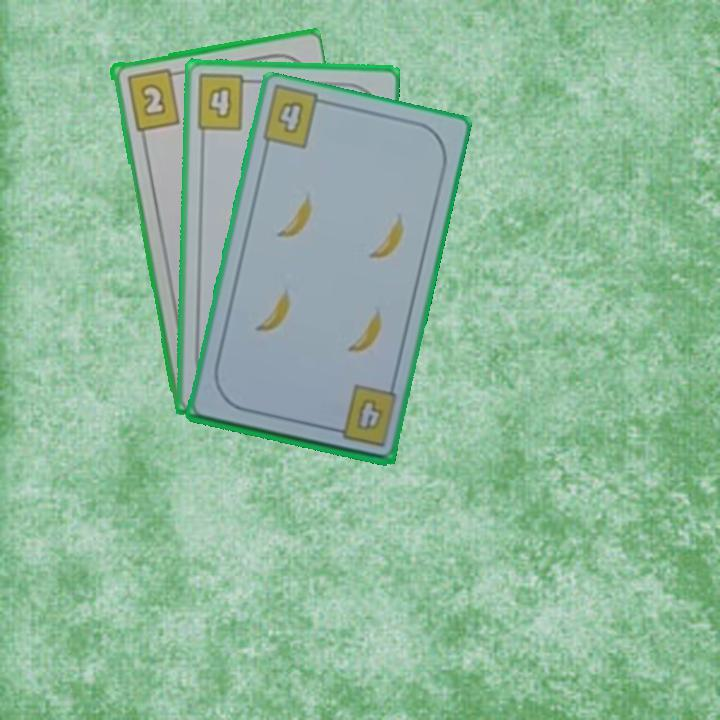2b: (122, 65, 184, 133)
4b: (325, 382, 397, 449), (192, 71, 258, 133), (273, 97, 306, 137)
